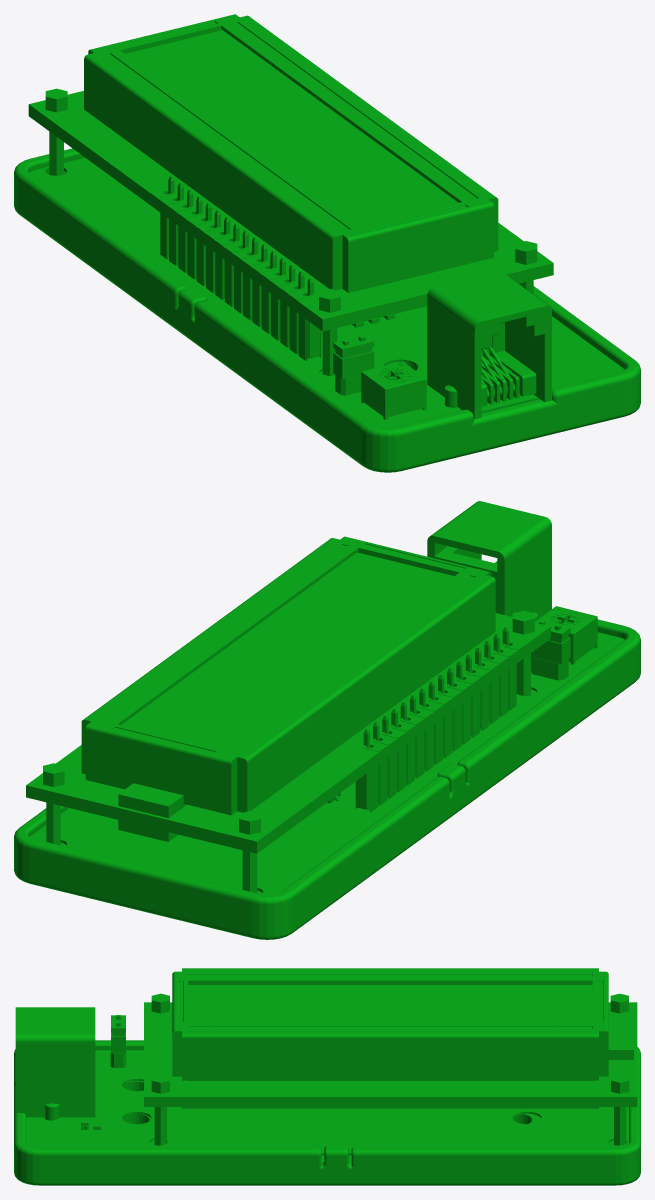
The model's file is LCD.glb.
3 views of the same model, one above another, from view 1: azimuth 30°, elevation 25°; view 2: azimuth 150°, elevation 25°; view 3: azimuth 270°, elevation 25° (orthographic). The views are drawn at different scales.
Parts seen in each view (by area): view 1: defaultobject; view 2: defaultobject; view 3: defaultobject.
Boxes of the visible parts, box(x1,y1,x2,y2) form: defaultobject: box(14, 14, 640, 472); defaultobject: box(14, 501, 640, 939); defaultobject: box(14, 968, 640, 1185).
Size of the model in its own units: 113 by 60.8 by 266.
